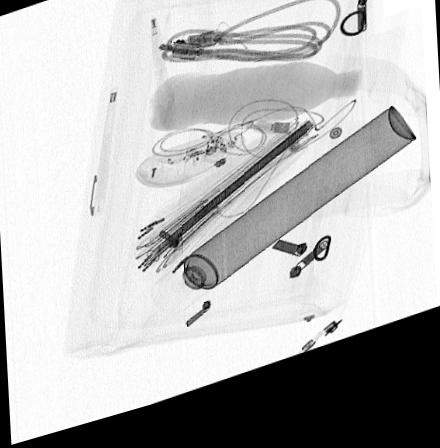Sprayer: (149, 126, 419, 326)
